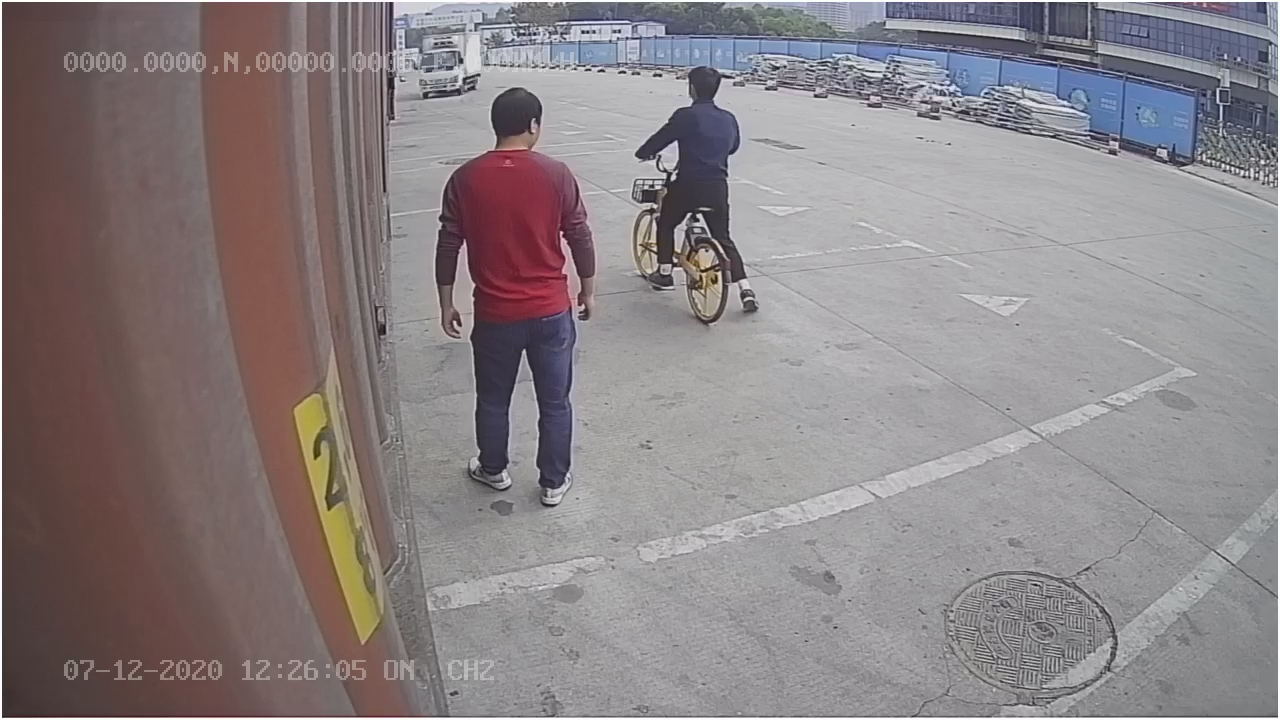person: (429, 84, 609, 508)
